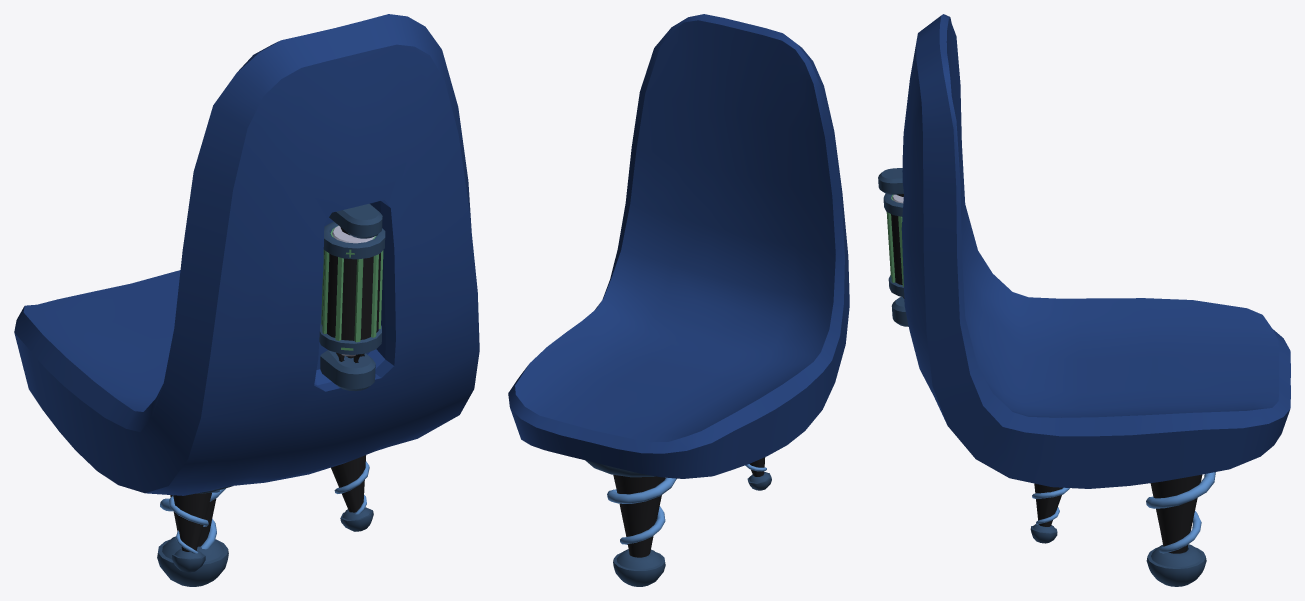
The model's file is Furn_ChairFloating_Blue_B.glb.
The picture shows the model from 3 angles, left to right: view 1: azimuth 30°, elevation 25°; view 2: azimuth 150°, elevation 25°; view 3: azimuth 270°, elevation 25°; orthographic projection. The views are drawn at different scales.
Parts seen in each view (by area): view 1: Furn_ChairFloating_Blue_B.001; view 2: Furn_ChairFloating_Blue_B.001; view 3: Furn_ChairFloating_Blue_B.001.
Boxes of the visible parts, x1=… form: Furn_ChairFloating_Blue_B.001: x1=14, y1=14, x2=479, y2=586; Furn_ChairFloating_Blue_B.001: x1=508, y1=14, x2=849, y2=586; Furn_ChairFloating_Blue_B.001: x1=878, y1=14, x2=1290, y2=586.
Bounding box in the file's own units: 0.3562 × 0.7057 × 0.4855.
